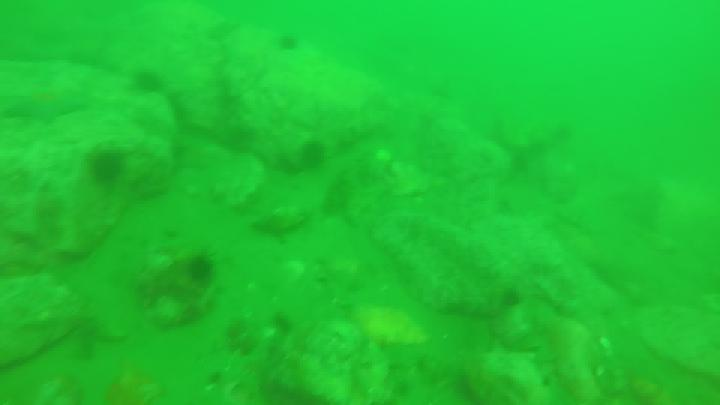echinus: (95, 150, 125, 187), (302, 141, 328, 173), (135, 68, 166, 93), (187, 257, 218, 281)
